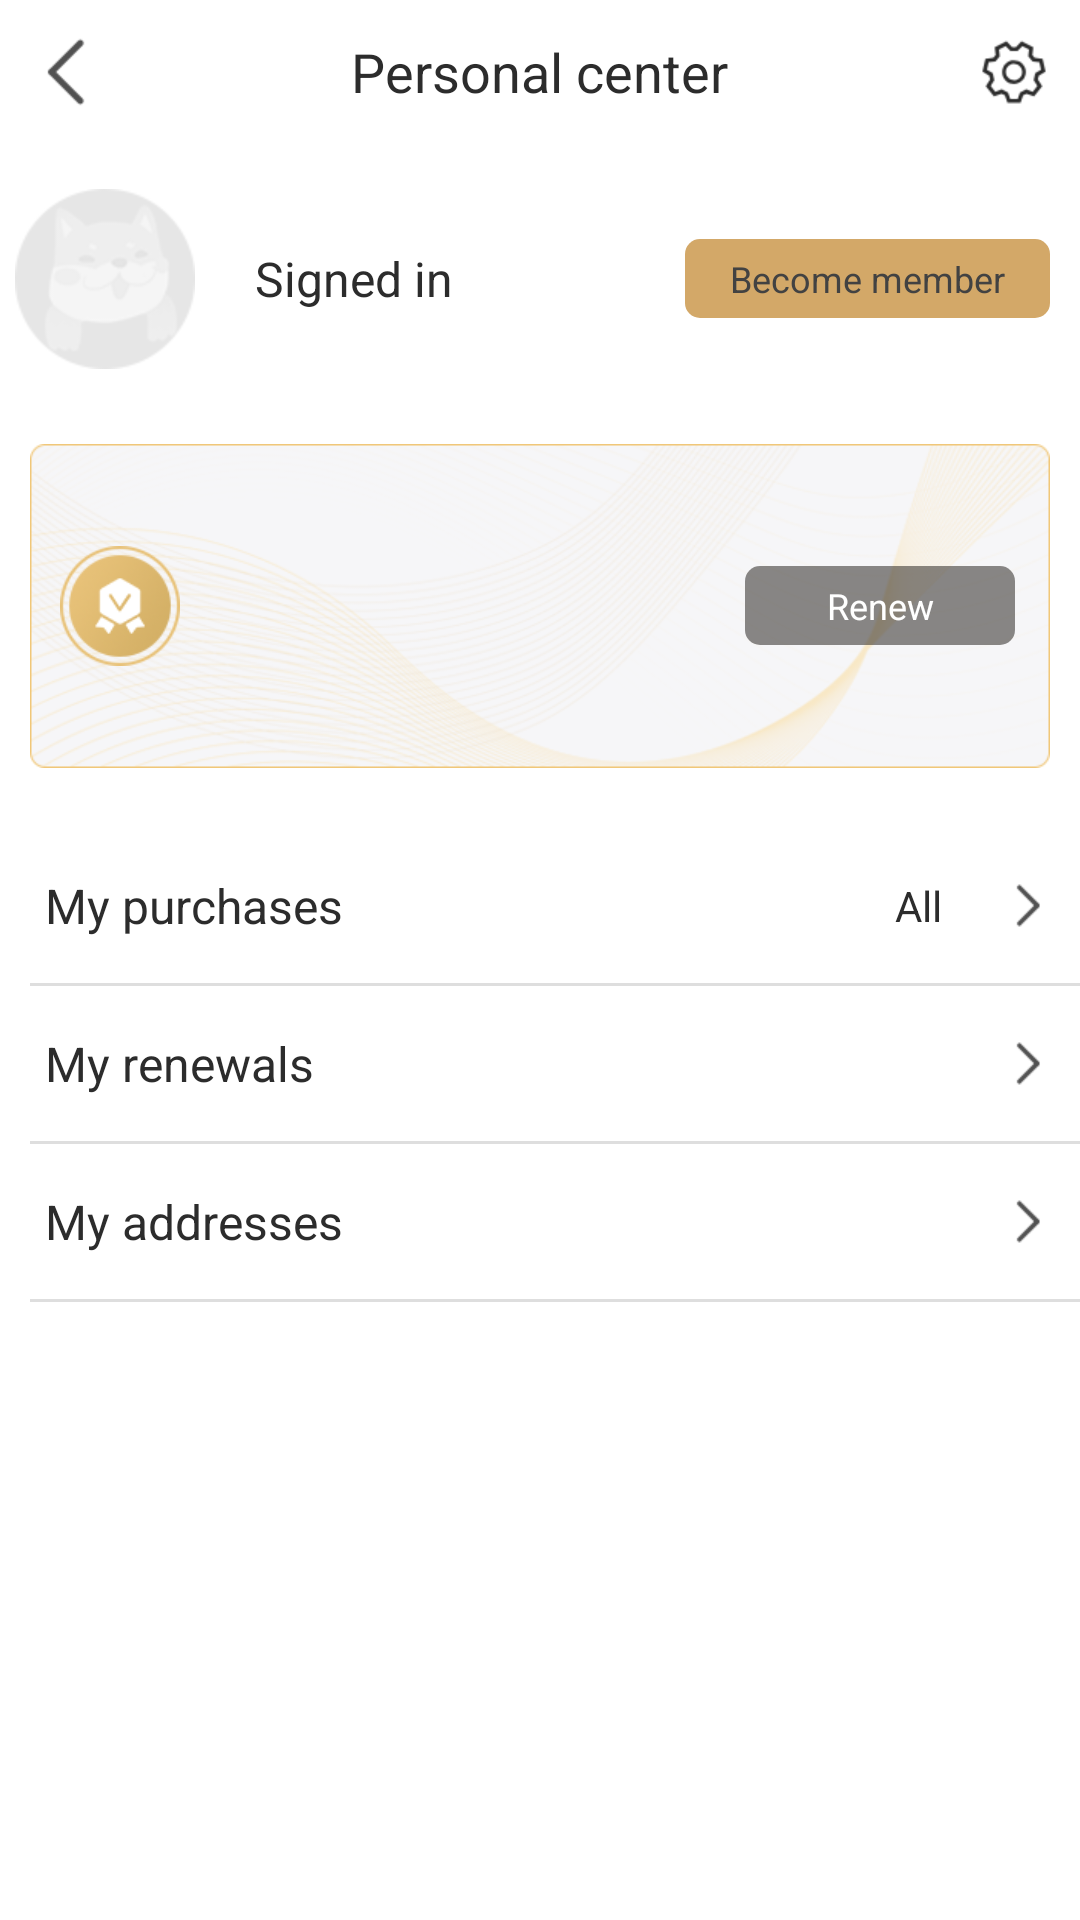

Screen size 1080*1920. Icon name, then its center in pixels as (x=x, y=y):
back: (x=65, y=72)
member: (x=120, y=606)
more: (x=1028, y=905), (x=1028, y=1063), (x=1028, y=1221)
setting: (x=1014, y=72)
